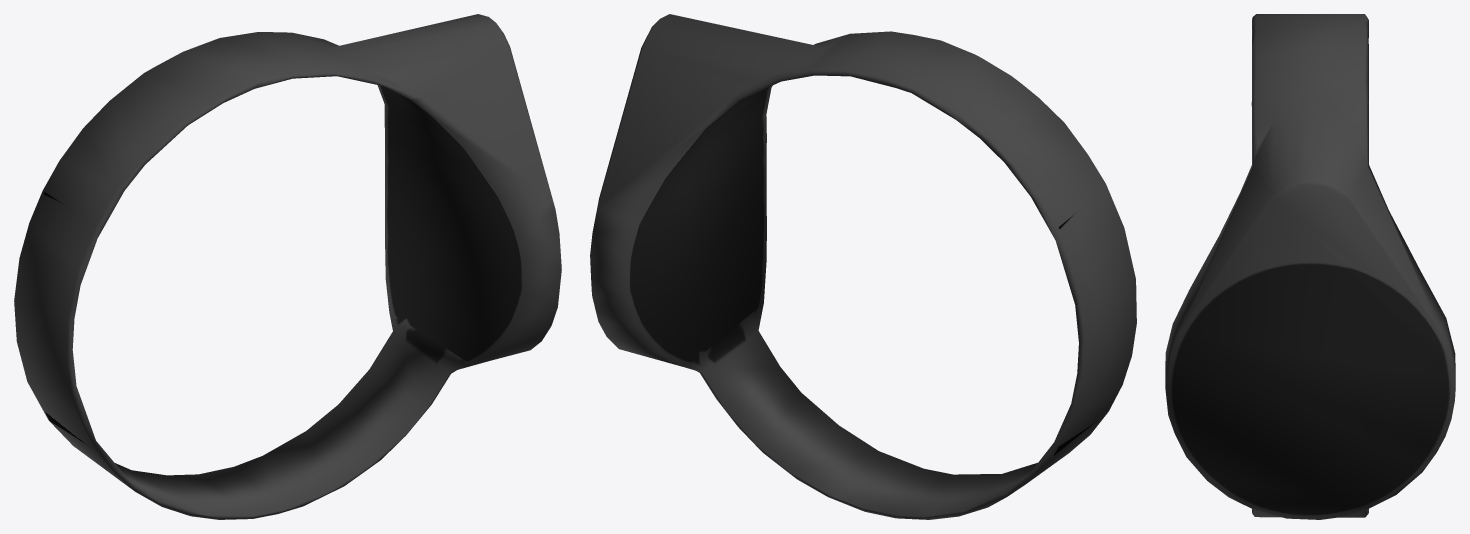
File: l_elbow_flex_link.OBJ
The picture shows the model from 3 angles, left to right: view 1: azimuth 30°, elevation 25°; view 2: azimuth 150°, elevation 25°; view 3: azimuth 270°, elevation 25°; orthographic projection. The views are drawn at different scales.
Parts seen in each view (by area): view 1: /ambf/env/pr2/l_elbow_flex_link_/ambf/env/pr2/l_elbow_flex_link_; view 2: /ambf/env/pr2/l_elbow_flex_link_/ambf/env/pr2/l_elbow_flex_link_; view 3: /ambf/env/pr2/l_elbow_flex_link_/ambf/env/pr2/l_elbow_flex_link_.
Boxes of the visible parts, x1,y1,x2,y2 form: /ambf/env/pr2/l_elbow_flex_link_/ambf/env/pr2/l_elbow_flex_link_: [14, 14, 561, 519]; /ambf/env/pr2/l_elbow_flex_link_/ambf/env/pr2/l_elbow_flex_link_: [590, 14, 1136, 519]; /ambf/env/pr2/l_elbow_flex_link_/ambf/env/pr2/l_elbow_flex_link_: [1165, 14, 1455, 519].
Size of the model in its own units: 0.1726 by 0.1599 by 0.0922.
